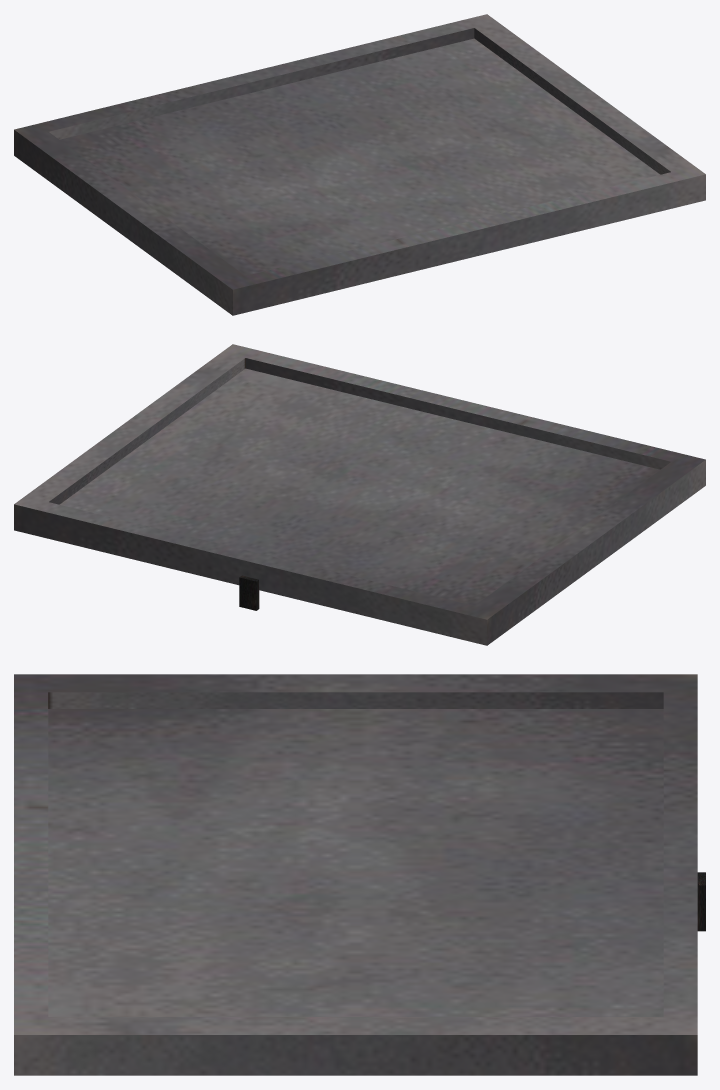
File: SM_Metal_Create_01_Top.fbx
3 views of the same model, one above another, from view 1: azimuth 30°, elevation 25°; view 2: azimuth 150°, elevation 25°; view 3: azimuth 270°, elevation 25° (orthographic). The views are drawn at different scales.
Parts seen in each view (by area): view 1: SM_Metal_Create_01_Top; view 2: SM_Metal_Create_01_Top; view 3: SM_Metal_Create_01_Top.
Part boxes in pixels (<box>): SM_Metal_Create_01_Top: <box>14,14,705,315</box>; SM_Metal_Create_01_Top: <box>14,344,705,645</box>; SM_Metal_Create_01_Top: <box>14,674,705,1075</box>.
Size of the model in its own units: 200 by 18.14 by 162.
